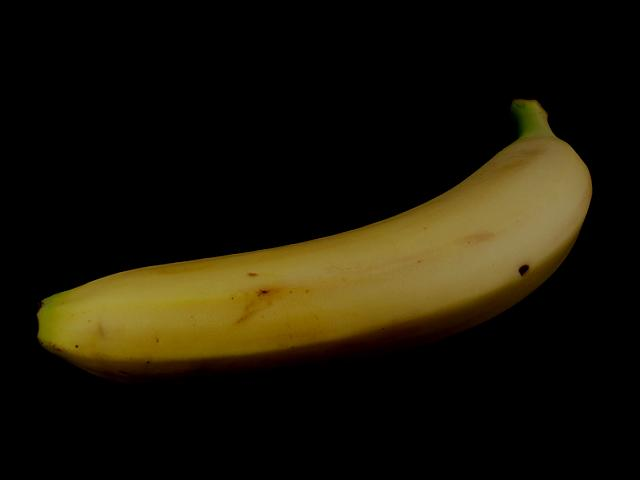Banana Ripe: (14, 195, 611, 387)
